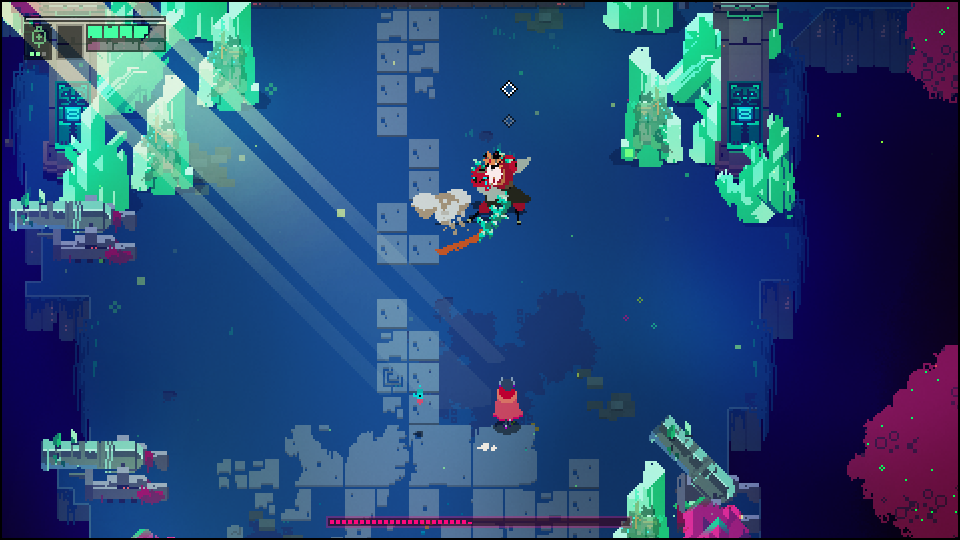hanged_man: (438, 146, 532, 249)
player: (490, 376, 525, 433)
